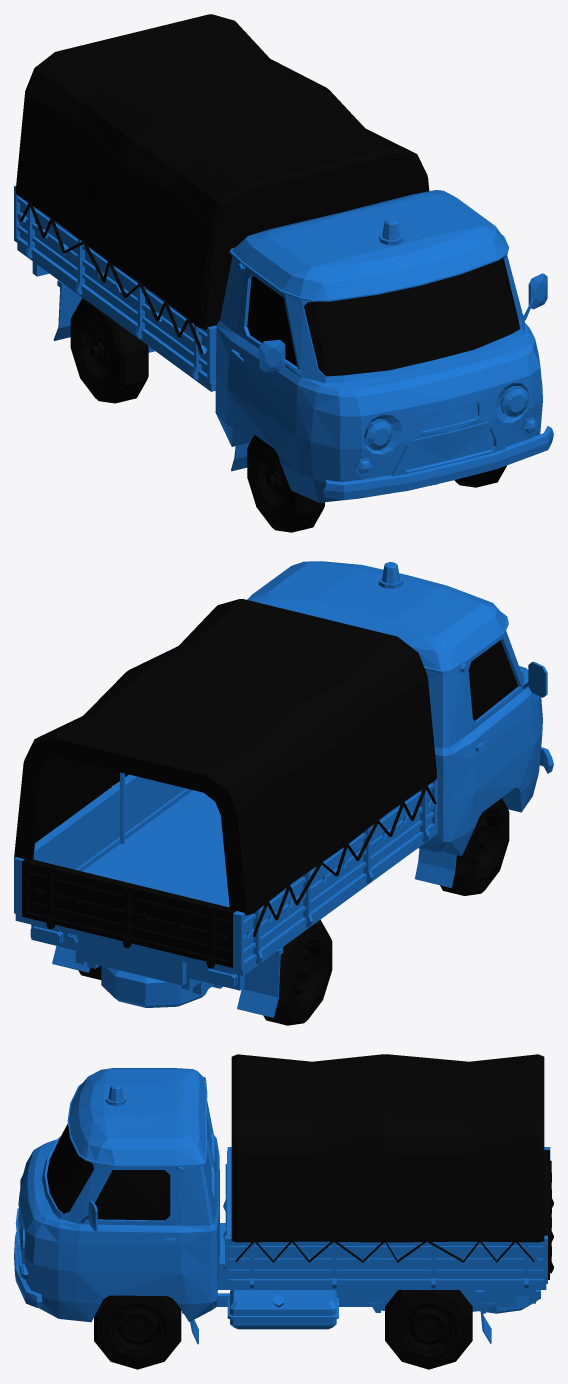
Rendered from SM_cargo_minibus.fbx.
3 views of the same model, one above another, from view 1: azimuth 30°, elevation 25°; view 2: azimuth 150°, elevation 25°; view 3: azimuth 270°, elevation 25° (orthographic). The views are drawn at different scales.
Visible parts, largest first — view 1: Cylinder_25, Cylinder_13, Cylinder_18, Cylinder_17; view 2: Cylinder_13, Cylinder_25, Cylinder_22, Cylinder_18, Cylinder_17; view 3: Cylinder_25, Cylinder_13, Cylinder_18, Cylinder_14, Cylinder_22.
Boxes of the visible parts, x1,y1,x2,y2 form: Cylinder_25: [14, 185, 553, 502]; Cylinder_13: [15, 14, 429, 353]; Cylinder_18: [70, 298, 148, 403]; Cylinder_17: [247, 435, 324, 532]; Cylinder_13: [14, 599, 437, 936]; Cylinder_25: [14, 561, 553, 1017]; Cylinder_22: [22, 859, 236, 968]; Cylinder_18: [78, 920, 332, 1025]; Cylinder_17: [440, 798, 509, 895]; Cylinder_25: [14, 1068, 550, 1344]; Cylinder_13: [231, 1054, 544, 1262]; Cylinder_18: [385, 1290, 472, 1369]; Cylinder_14: [94, 1295, 181, 1369]; Cylinder_22: [544, 1150, 553, 1279].
Bounding box in the file's own units: 232 × 227 × 456.
